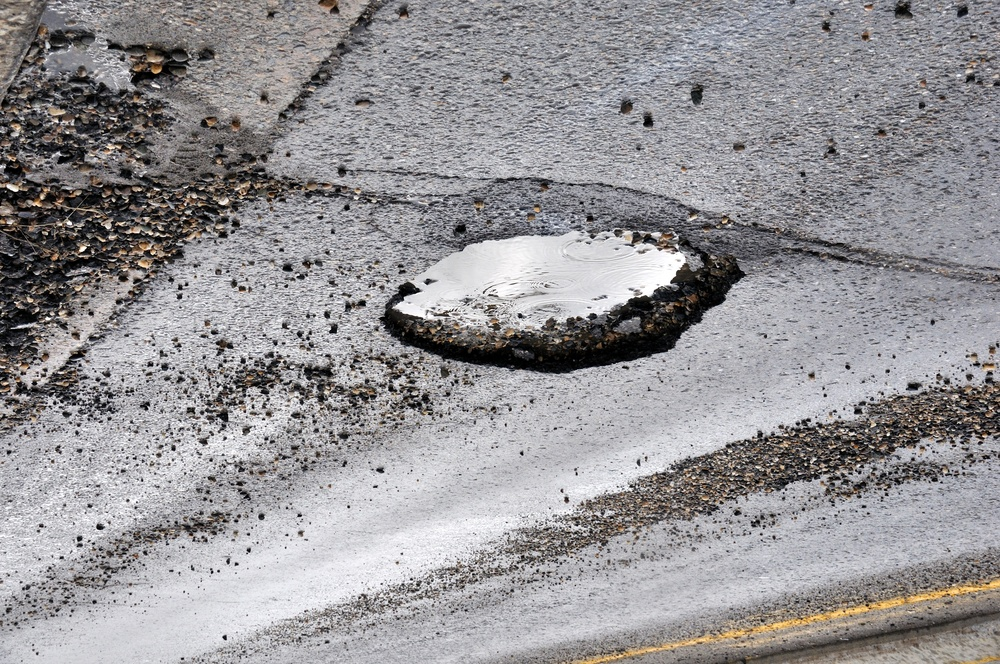pothole: (368, 218, 742, 365)
